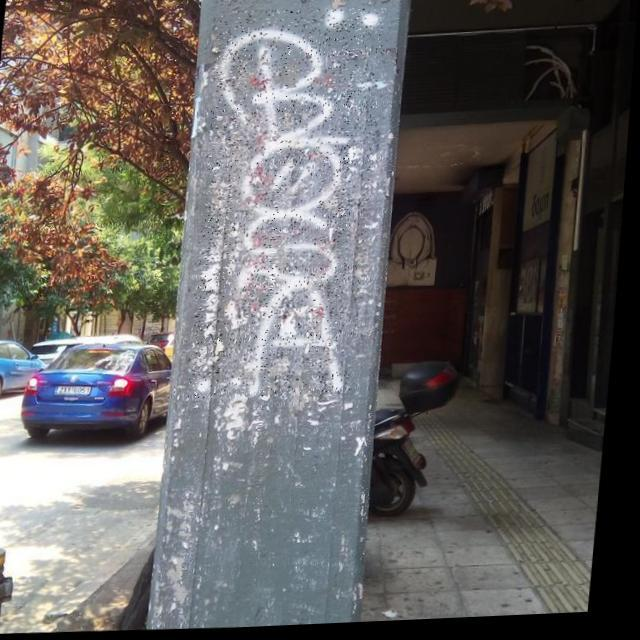-: (190, 8, 387, 402)
